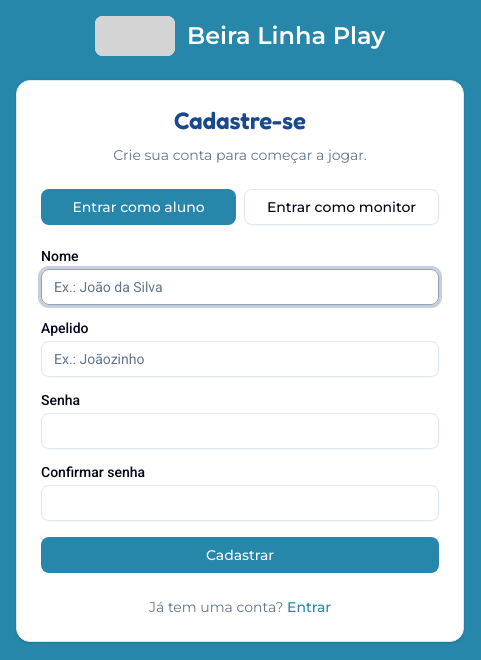
it: RegisterPage › swaps nickname for email when entering as monitor
The width and height of the screenshot is (481, 660).
Click the button "Entrar como monitor" at (342, 207), box [244, 189, 439, 225]
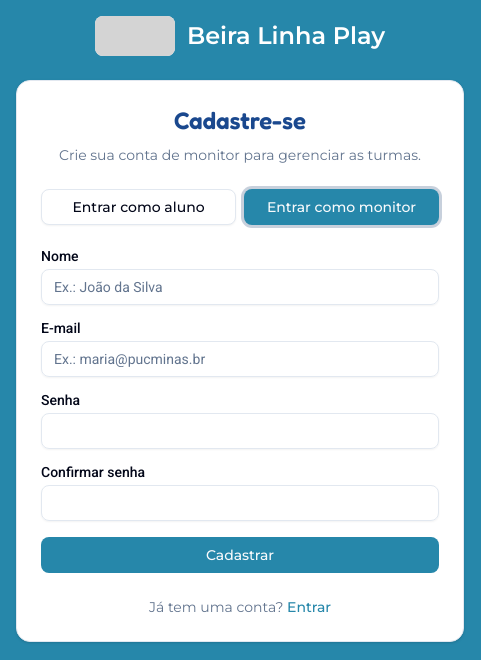
Expected: the field labelled "E-mail" is shown, [41, 341, 439, 377]
Expected: the label labelled "Apelido" is gone
